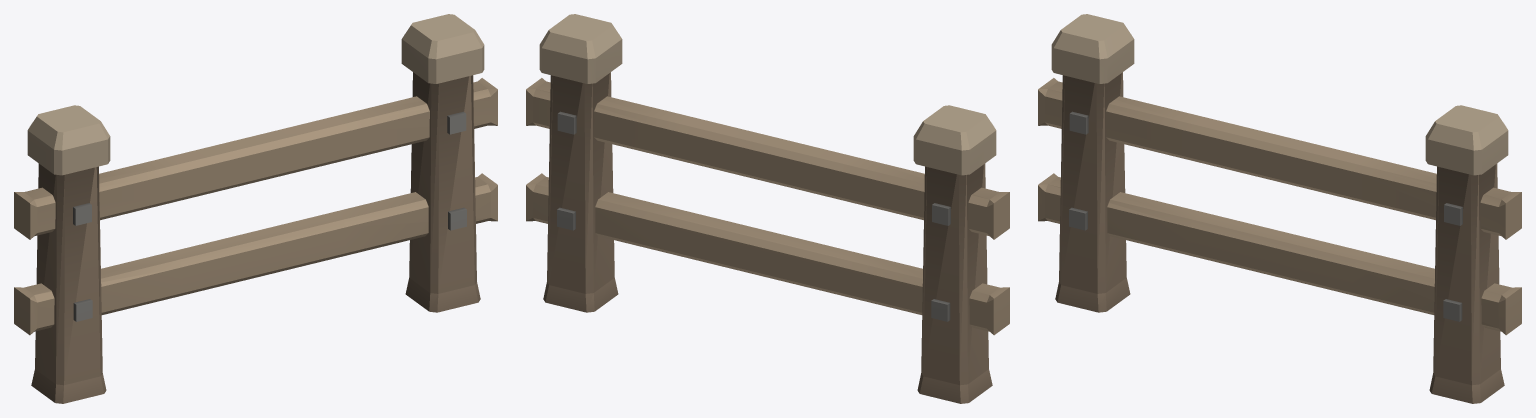
Rendered from fence.glb.
The picture shows the model from 3 angles, left to right: view 1: azimuth 30°, elevation 25°; view 2: azimuth 150°, elevation 25°; view 3: azimuth 330°, elevation 25°; orthographic projection.
Parts seen in each view (by area): view 1: fence.001; view 2: fence.001; view 3: fence.001.
Boxes of the visible parts, box(x1,y1,x2,y2) form: fence.001: box(14, 14, 497, 403); fence.001: box(526, 14, 1009, 403); fence.001: box(1038, 14, 1521, 403).
Size of the model in its own units: 2.6 by 1.43 by 0.312.
